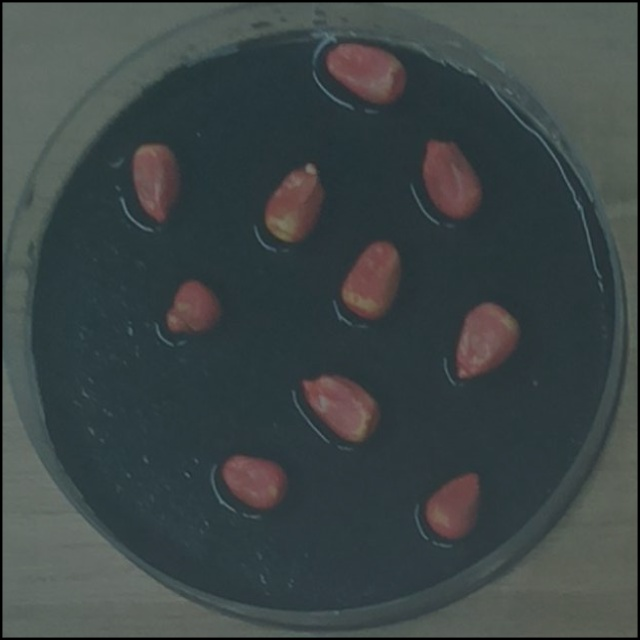Zea mays: (295, 364, 388, 450), (447, 293, 528, 386), (319, 33, 414, 110), (256, 153, 330, 249), (415, 131, 489, 226), (334, 233, 408, 326), (125, 136, 188, 229), (419, 464, 486, 547), (214, 448, 295, 516), (159, 272, 228, 343)
